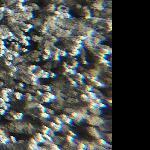alive: (1, 2, 109, 147)
